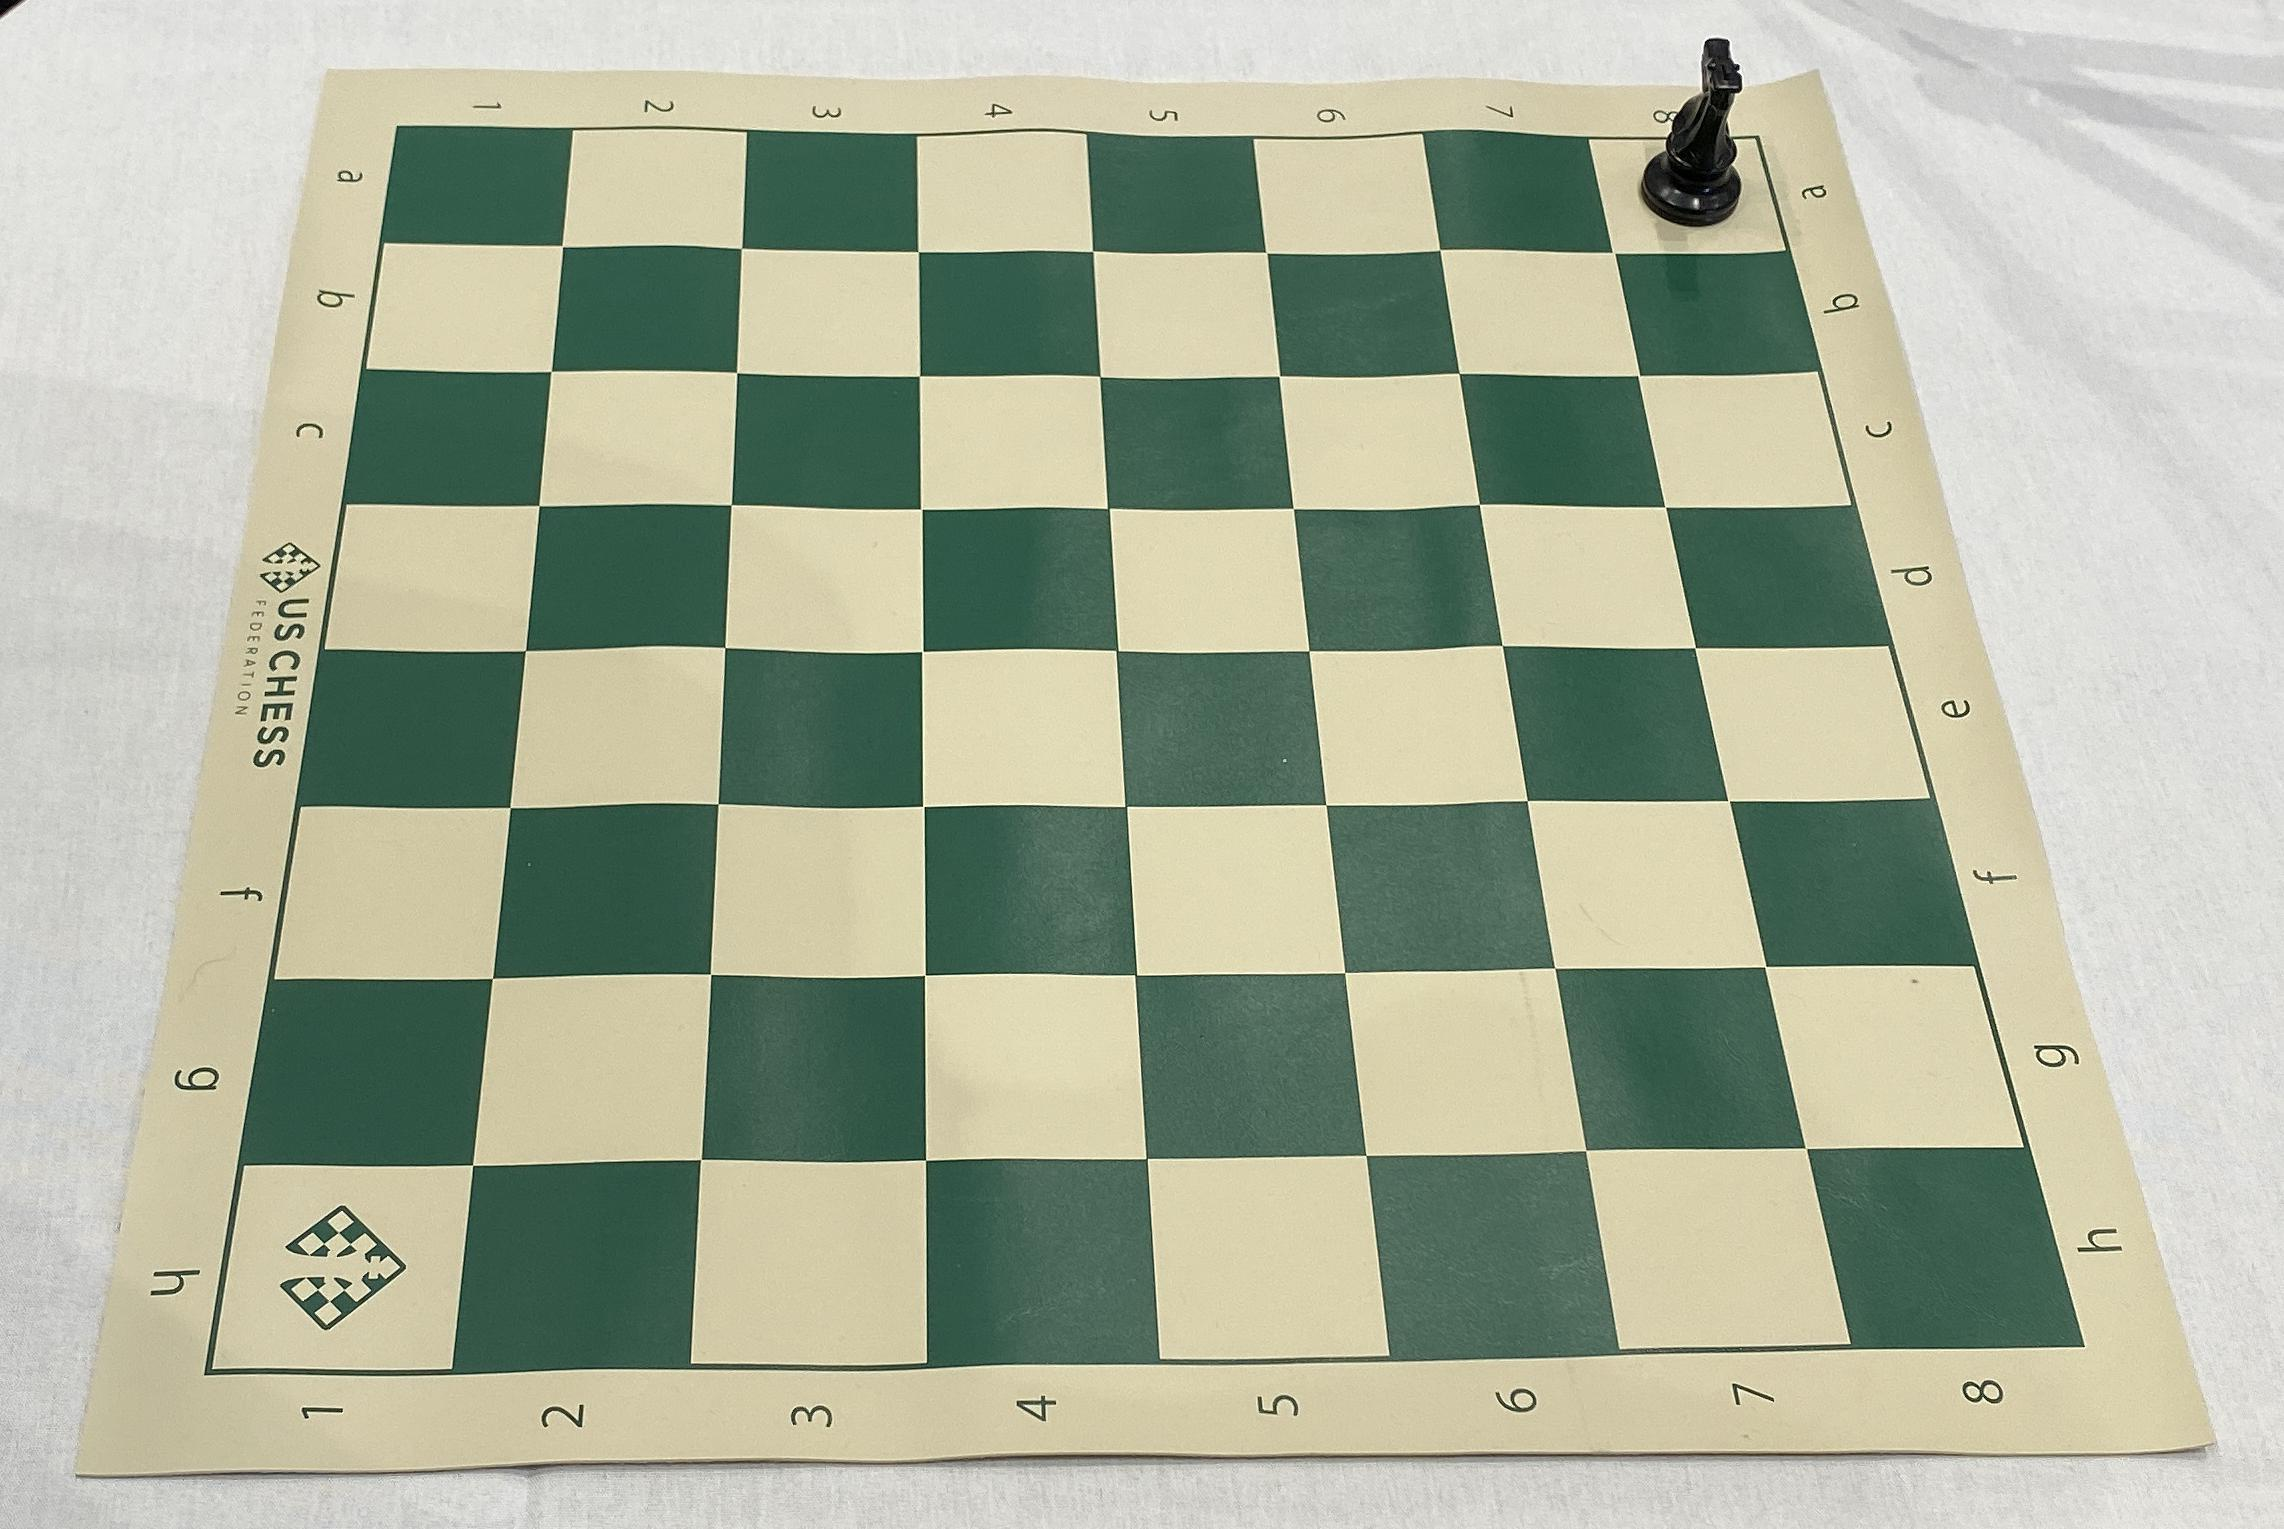black-knight: (1636, 36, 1748, 230)
